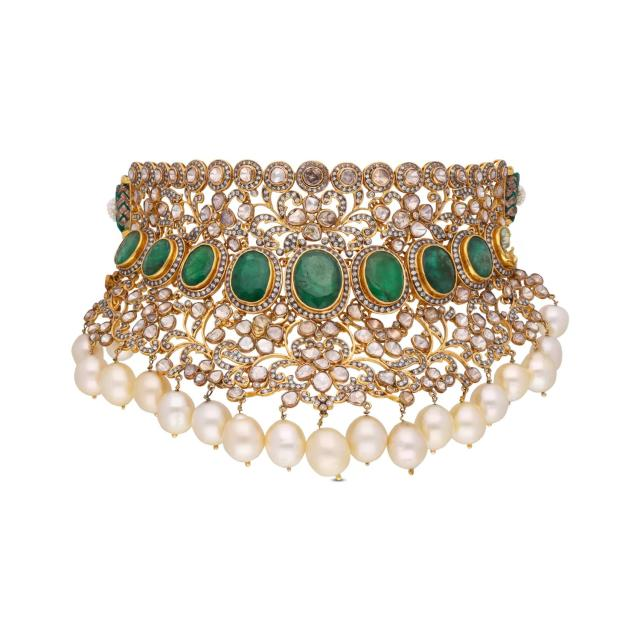missing gem: (500, 226, 521, 266), (319, 212, 337, 226)
